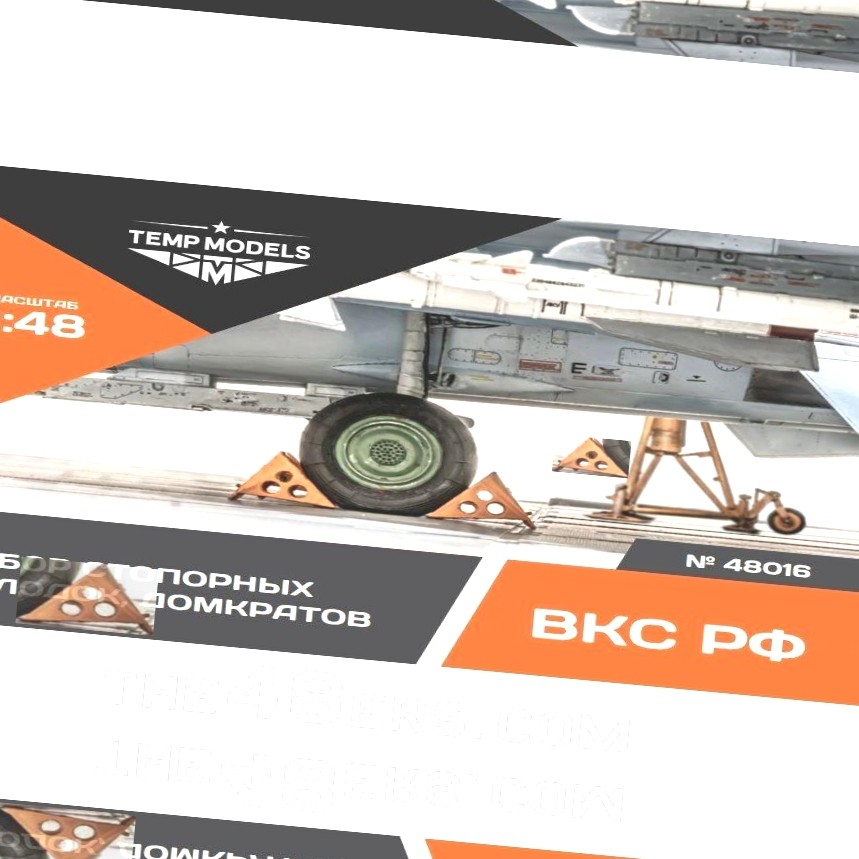chock: (15, 557, 159, 636), (0, 803, 136, 859), (423, 466, 539, 530), (227, 447, 341, 510), (552, 434, 632, 478)
wheel: (292, 382, 483, 518), (764, 504, 806, 535)
